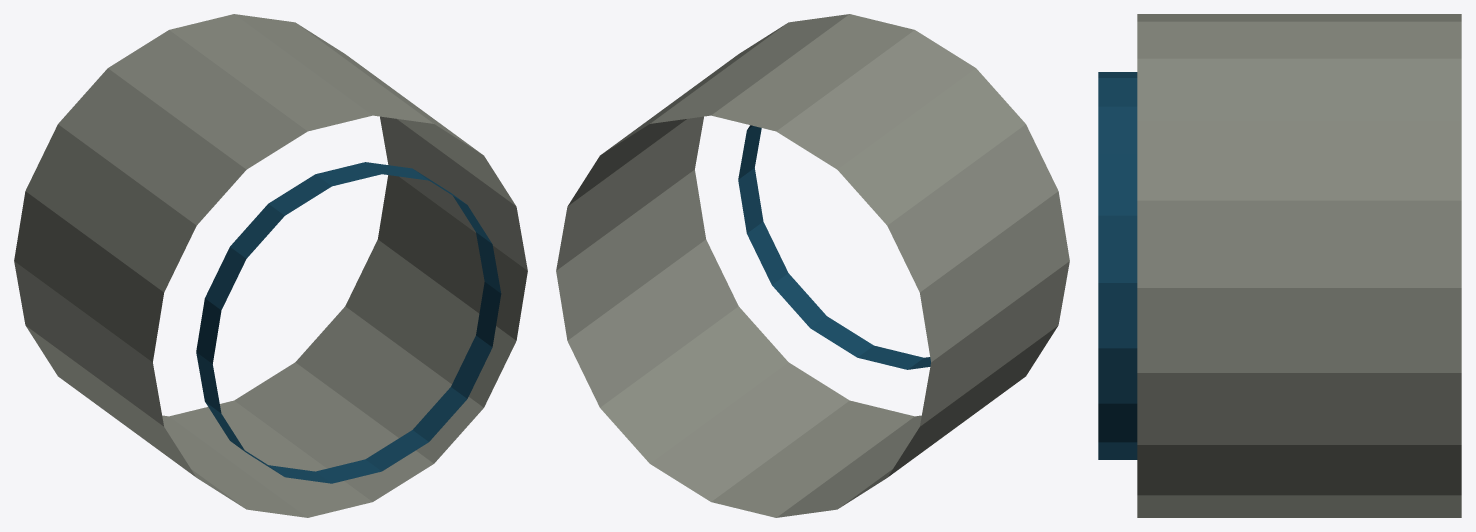
Rendered from SM_LorienMirror.obj.
3 views of the same model, side by side, from view 1: azimuth 30°, elevation 25°; view 2: azimuth 150°, elevation 25°; view 3: azimuth 270°, elevation 25° (orthographic). The views are drawn at different scales.
Visible parts, largest first — view 1: SM_LorienMirror; view 2: SM_LorienMirror; view 3: SM_LorienMirror.
Part boxes in pixels (x1,y1,x2,y2): SM_LorienMirror: [14, 14, 527, 517]; SM_LorienMirror: [556, 14, 1069, 517]; SM_LorienMirror: [1098, 14, 1461, 517].
Bounding box in the file's own units: 156 × 154 × 112.
